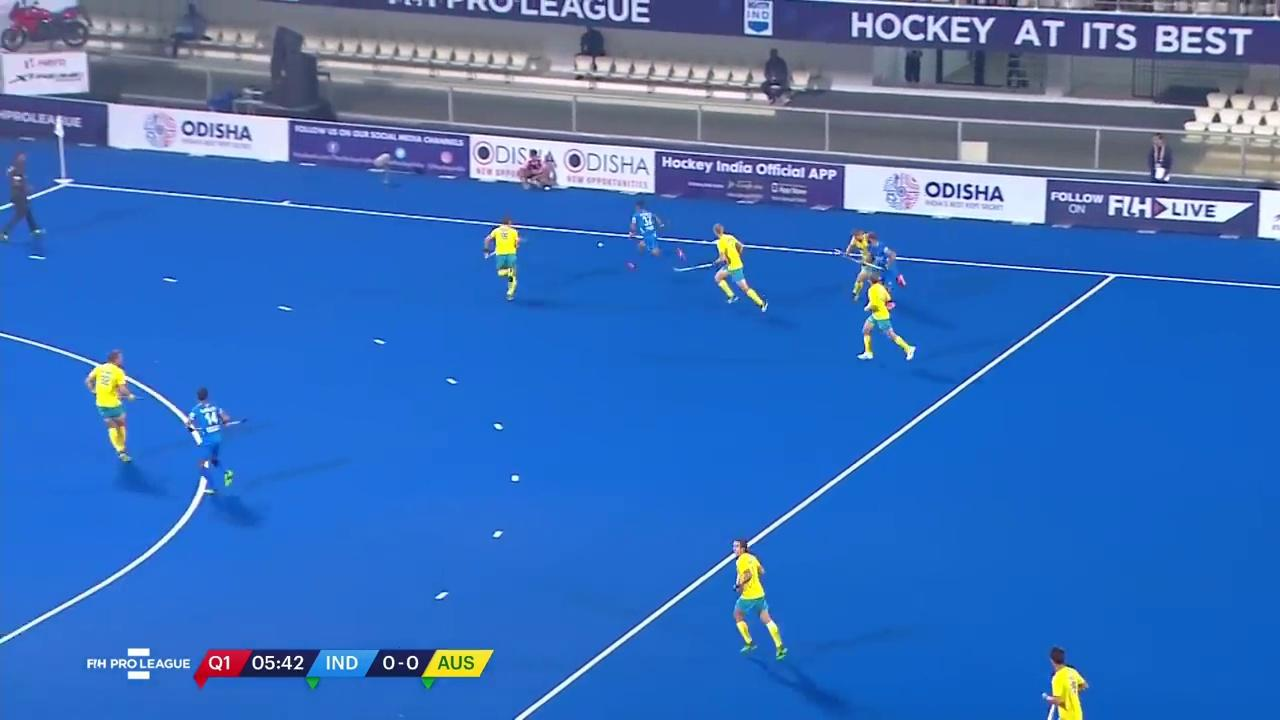ball: (593, 240, 606, 250)
